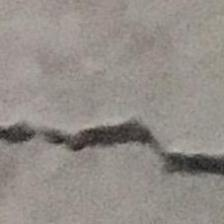Crack: (6, 114, 224, 188)
